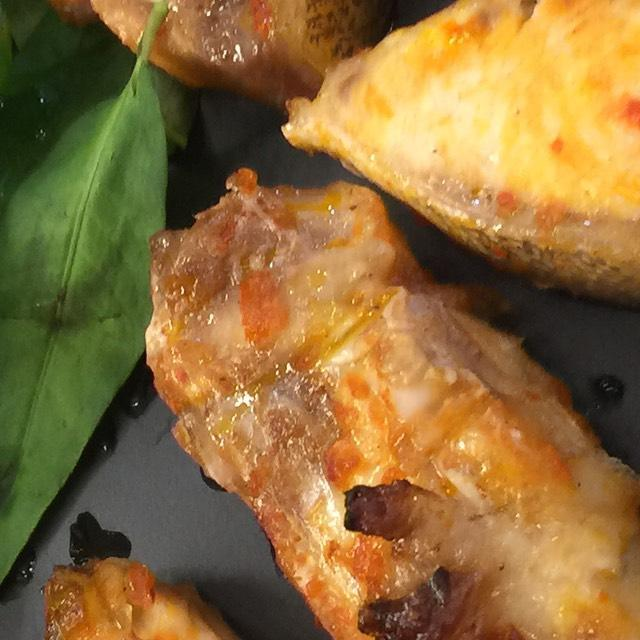ca: (132, 159, 640, 640), (267, 0, 640, 325), (0, 0, 414, 125)
rau ram: (0, 0, 198, 640)
